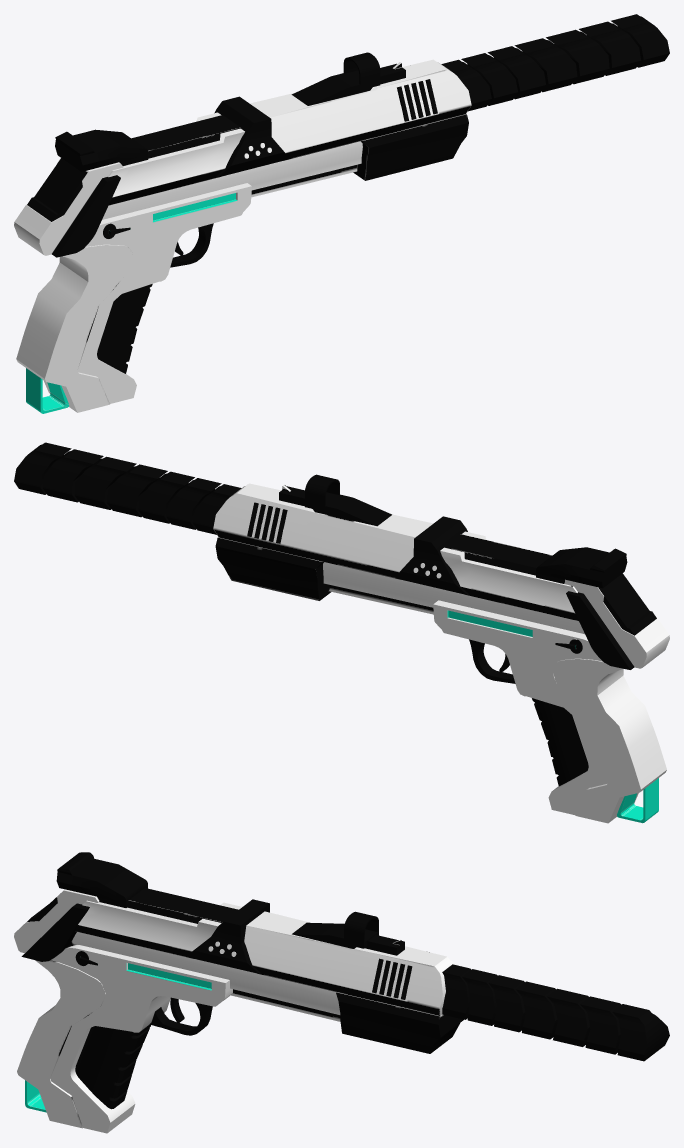
The model's file is silencer_final_textured.fbx.
3 renders of one model, top to bottom at view 1: azimuth 30°, elevation 25°; view 2: azimuth 150°, elevation 25°; view 3: azimuth 330°, elevation 25°, orthographic. The views are drawn at different scales.
Visible parts, largest first — view 1: Cube.001; view 2: Cube.001; view 3: Cube.001.
Boxes of the visible parts, box(x1,y1,x2,y2) form: Cube.001: box(14, 14, 669, 413); Cube.001: box(14, 442, 669, 823); Cube.001: box(14, 852, 669, 1133).
Size of the model in its own units: 68.86 by 27.86 by 7.32.
1 material, 1 textured.
